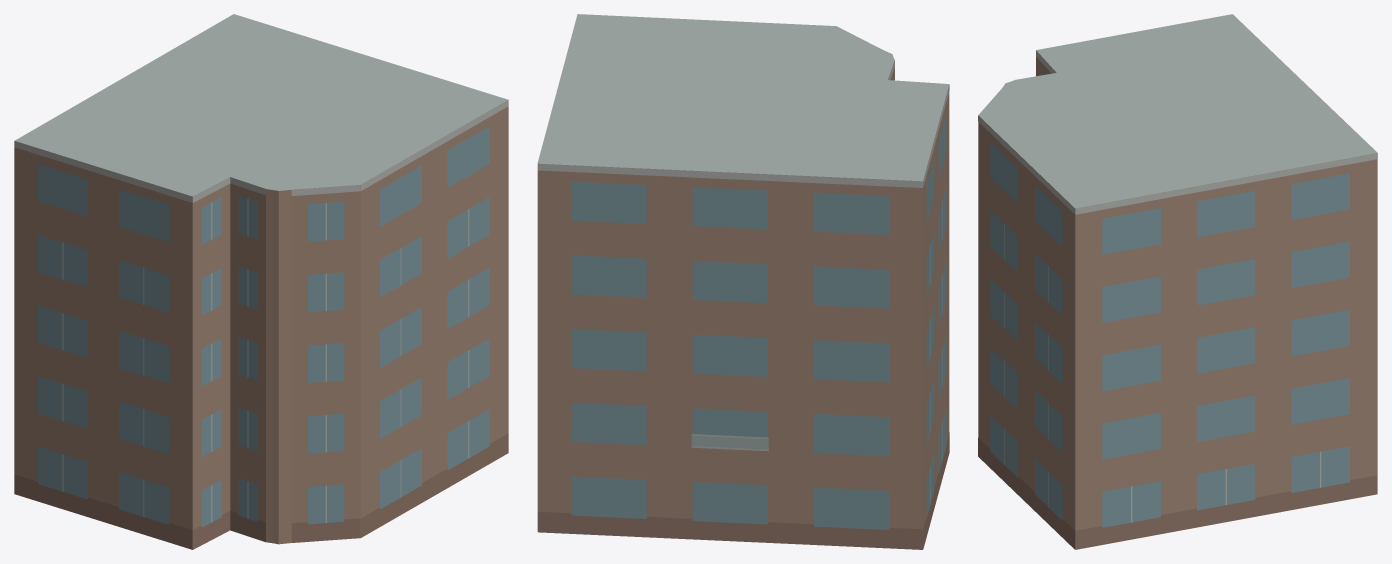
The model's file is survey-upis-32587624.glb.
3 views of the same model, side by side, from view 1: azimuth 30°, elevation 25°; view 2: azimuth 150°, elevation 25°; view 3: azimuth 270°, elevation 25° (orthographic). The views are drawn at different scales.
Parts seen in each view (by area): view 1: survey-upis-32587624.tmp; view 2: survey-upis-32587624.tmp; view 3: survey-upis-32587624.tmp.
Boxes of the visible parts, x1,y1,x2,y2 form: survey-upis-32587624.tmp: (14,14,508,549); survey-upis-32587624.tmp: (537,14,949,549); survey-upis-32587624.tmp: (978,14,1377,549).
Size of the model in its own units: 16.27 by 13.3 by 14.12.
